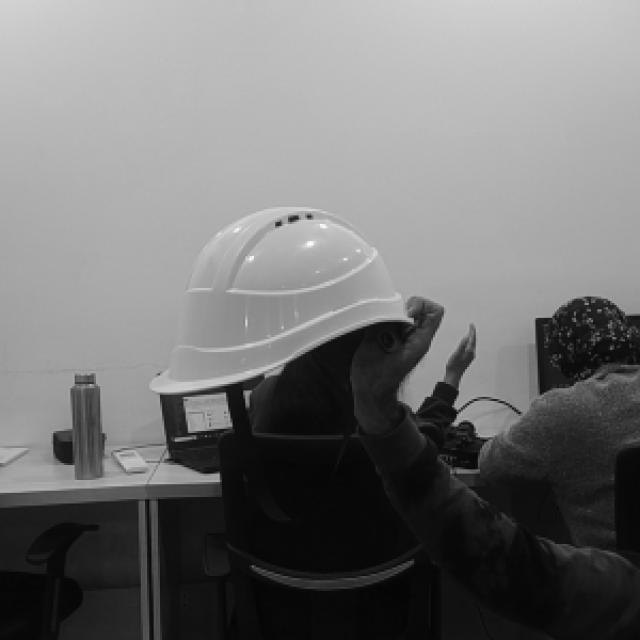safety_helmet: (150, 207, 413, 395)
